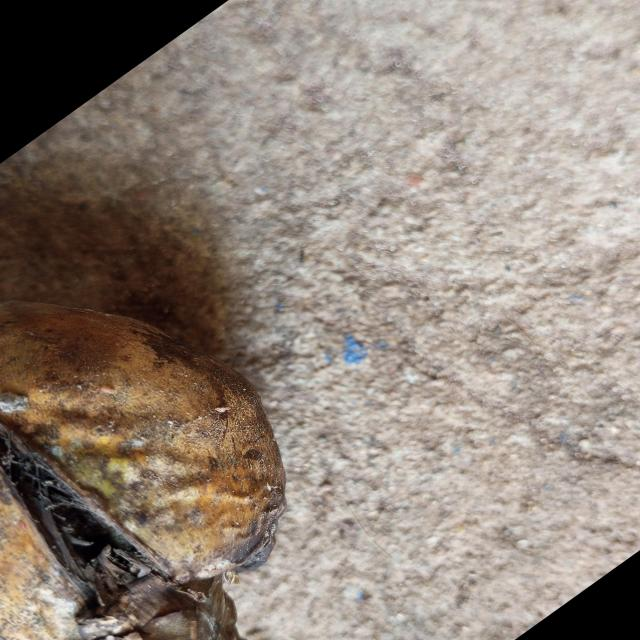damaged: (0, 300, 286, 640)
